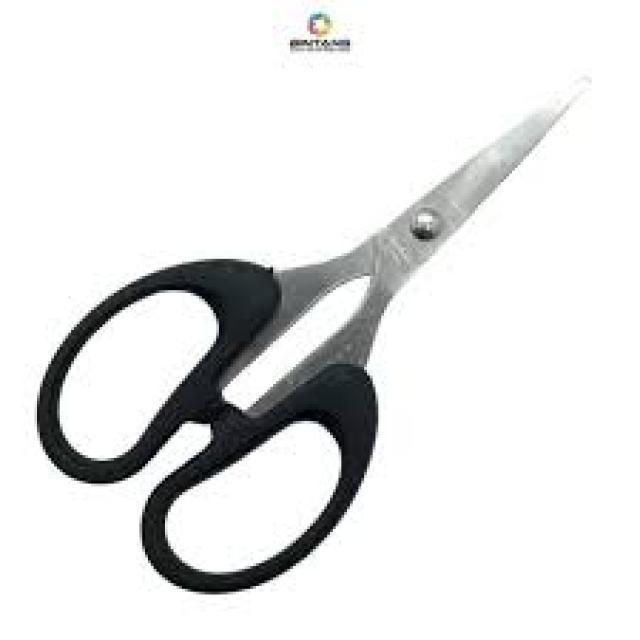Scissors: (24, 59, 616, 609)
